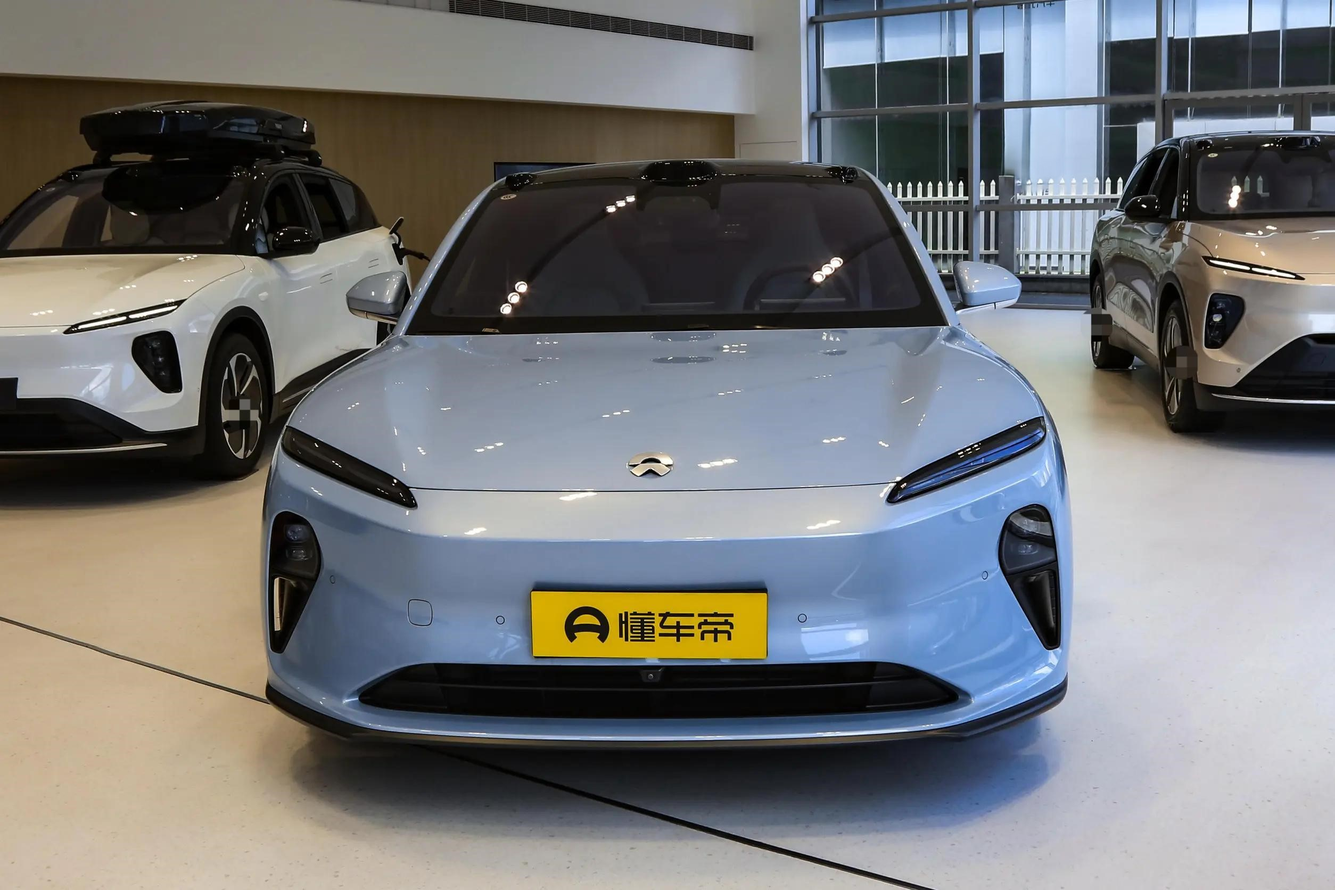NIO: (627, 452, 674, 476)
